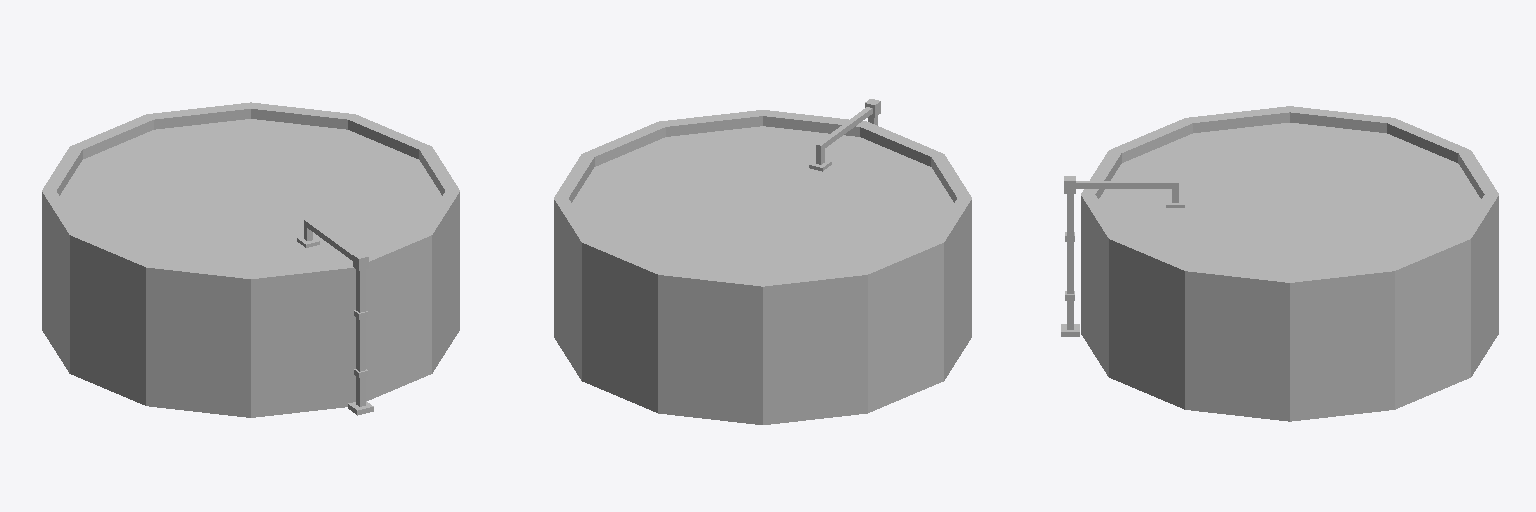
Rendered from SM_Bld_Silo_01.obj.
3 views of the same model, side by side, from view 1: azimuth 30°, elevation 25°; view 2: azimuth 150°, elevation 25°; view 3: azimuth 270°, elevation 25° (orthographic).
Parts seen in each view (by area): view 1: SM_Bld_Silo_01:Mesh; view 2: SM_Bld_Silo_01:Mesh; view 3: SM_Bld_Silo_01:Mesh.
Part boxes in pixels (x1,y1,x2,y2): SM_Bld_Silo_01:Mesh: (42,102,459,417); SM_Bld_Silo_01:Mesh: (554,99,971,424); SM_Bld_Silo_01:Mesh: (1061,106,1498,421).
Bounding box in the file's own units: 39.39 × 16.04 × 41.27.